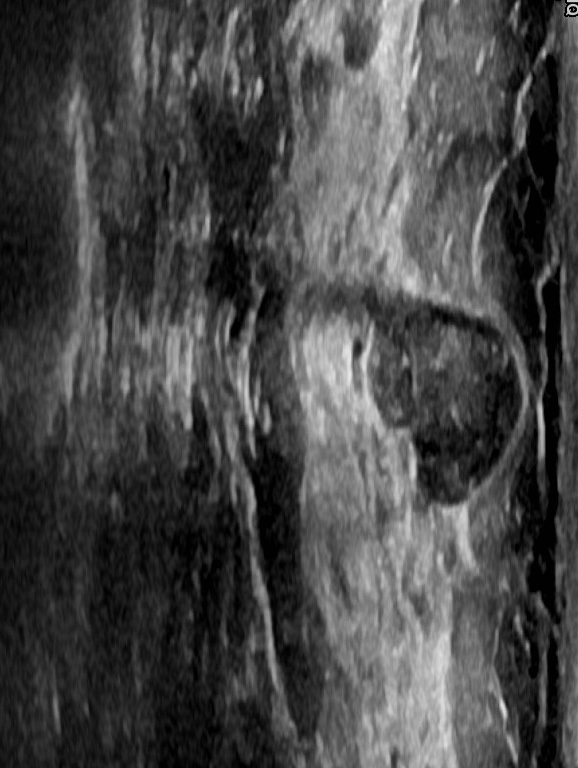Benign: (360, 302, 522, 501)
Normal: (27, 2, 543, 748)
